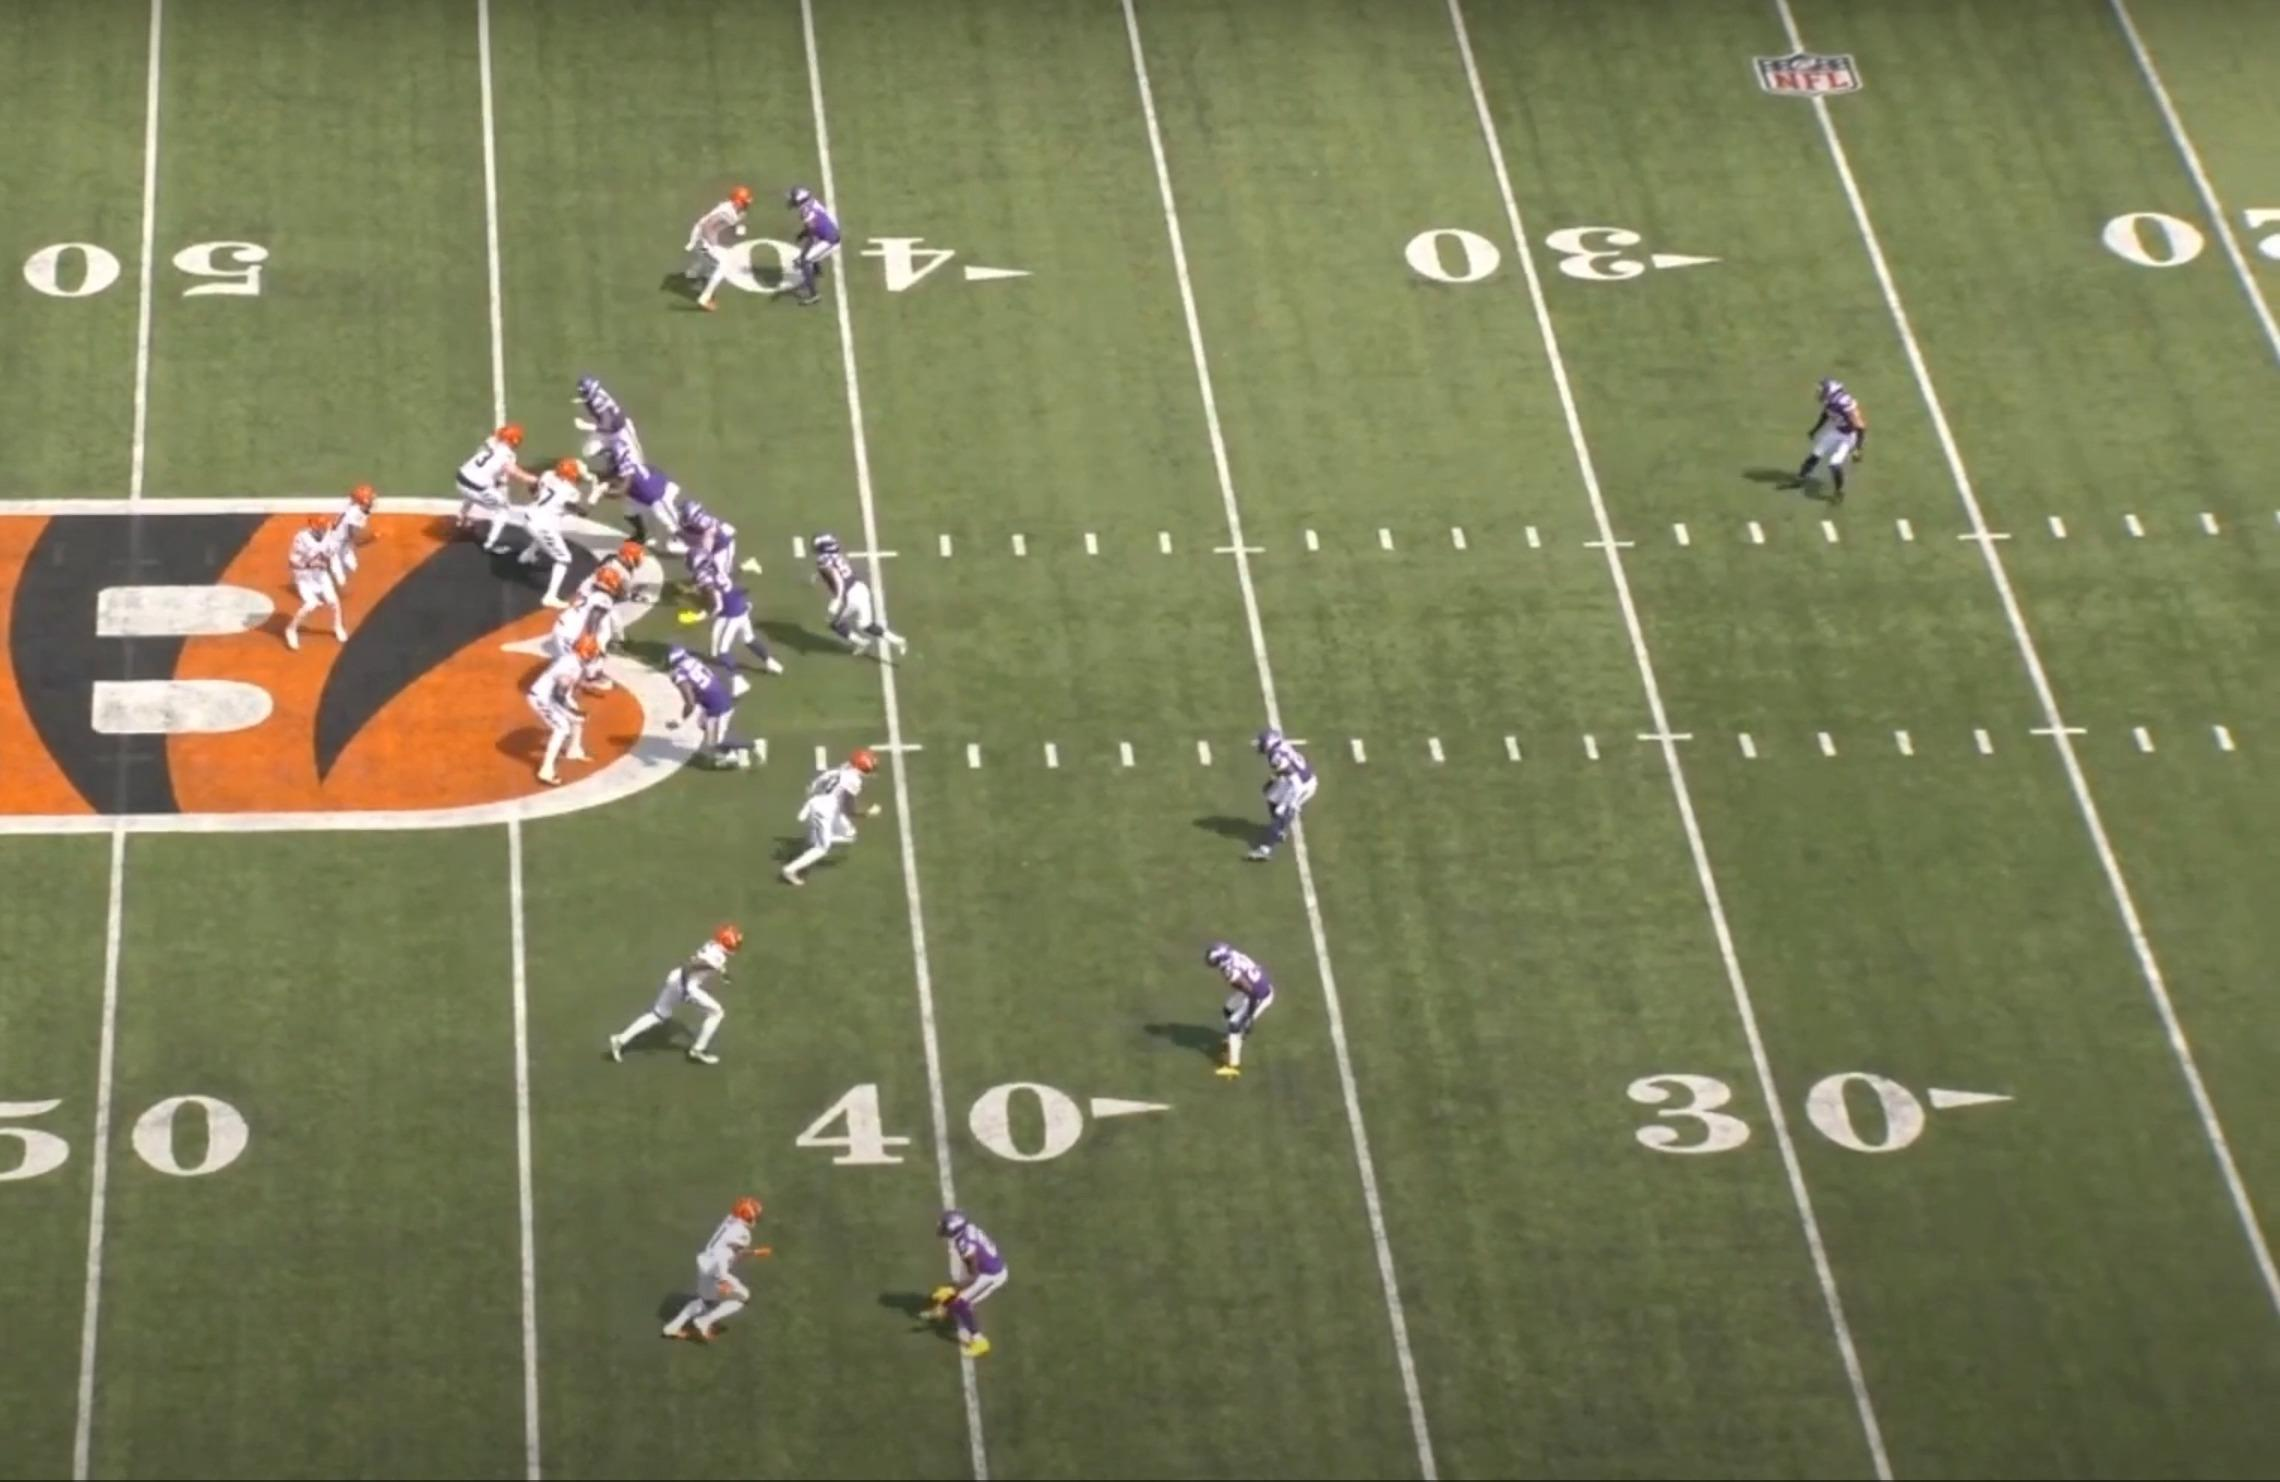defense: (653, 641, 766, 781), (806, 527, 917, 666), (688, 547, 789, 694), (931, 1196, 1015, 1364), (1197, 930, 1285, 1083), (1241, 719, 1323, 874), (1793, 372, 1876, 512), (608, 439, 696, 553), (565, 366, 636, 490), (678, 487, 766, 586), (776, 186, 843, 316)
oline: (499, 455, 593, 603), (459, 419, 538, 555), (570, 538, 661, 656), (538, 585, 622, 706), (530, 488, 602, 615)
qb: (274, 502, 372, 660)
skill: (603, 915, 751, 1073), (661, 1188, 783, 1351), (773, 744, 884, 896), (522, 635, 600, 788), (675, 183, 761, 317)
